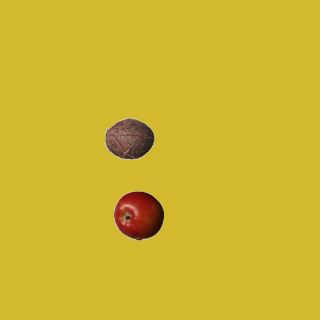Apple Braeburn: (113, 190, 163, 240)
Cocos: (104, 113, 154, 163)
